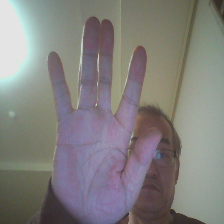hand: (43, 15, 161, 222)
